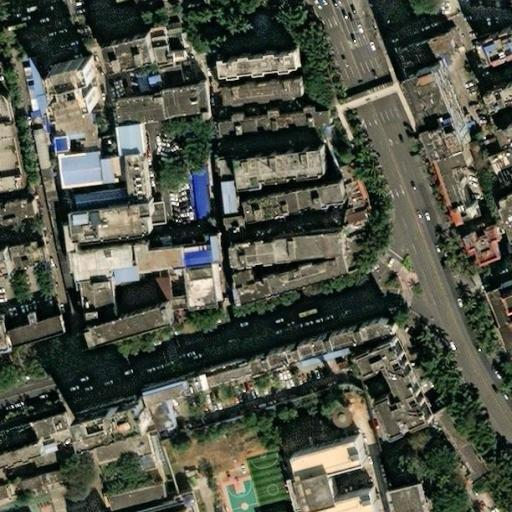building: (17, 126, 72, 331), (251, 316, 398, 369), (280, 435, 368, 512), (359, 346, 428, 443), (414, 67, 474, 159), (427, 408, 479, 477), (214, 105, 327, 135), (243, 186, 337, 222), (225, 143, 313, 181), (82, 310, 164, 350), (263, 256, 344, 296), (65, 210, 147, 248), (80, 399, 143, 440), (39, 56, 83, 112), (0, 416, 66, 453), (183, 356, 246, 393), (479, 287, 512, 354), (140, 16, 185, 65), (244, 394, 319, 423), (216, 80, 295, 107), (178, 129, 200, 224), (47, 152, 95, 188), (268, 235, 334, 261), (97, 32, 146, 67), (434, 159, 463, 218), (390, 32, 444, 63), (213, 50, 289, 72), (101, 484, 162, 511), (6, 315, 59, 346), (209, 155, 234, 220), (66, 285, 103, 327), (0, 235, 44, 270), (141, 375, 189, 407), (473, 28, 512, 65), (458, 226, 496, 263), (100, 284, 154, 310), (58, 254, 99, 288), (330, 161, 361, 205), (96, 251, 130, 289), (156, 90, 202, 118), (279, 418, 329, 443), (66, 185, 124, 205), (491, 192, 512, 247), (393, 482, 431, 512), (120, 95, 158, 123), (223, 242, 269, 265), (118, 254, 166, 275), (19, 56, 37, 112), (3, 450, 43, 475), (317, 390, 341, 431), (121, 168, 143, 212), (233, 278, 268, 305), (292, 402, 325, 426), (13, 66, 29, 114), (484, 79, 512, 106), (334, 210, 363, 236), (177, 281, 203, 309), (113, 130, 138, 159), (0, 476, 28, 500), (178, 244, 205, 268), (93, 159, 115, 184), (279, 481, 296, 512), (490, 120, 512, 143), (32, 471, 60, 489), (48, 119, 83, 133), (0, 194, 25, 213), (217, 218, 236, 239), (27, 305, 50, 322), (56, 228, 69, 258), (210, 239, 223, 268), (230, 271, 249, 287), (213, 420, 234, 434), (120, 158, 139, 170), (44, 447, 59, 461), (34, 116, 46, 133), (228, 289, 239, 307), (127, 79, 140, 94), (43, 139, 57, 152), (243, 440, 256, 452), (504, 292, 512, 309), (21, 311, 31, 324), (145, 78, 157, 88)
